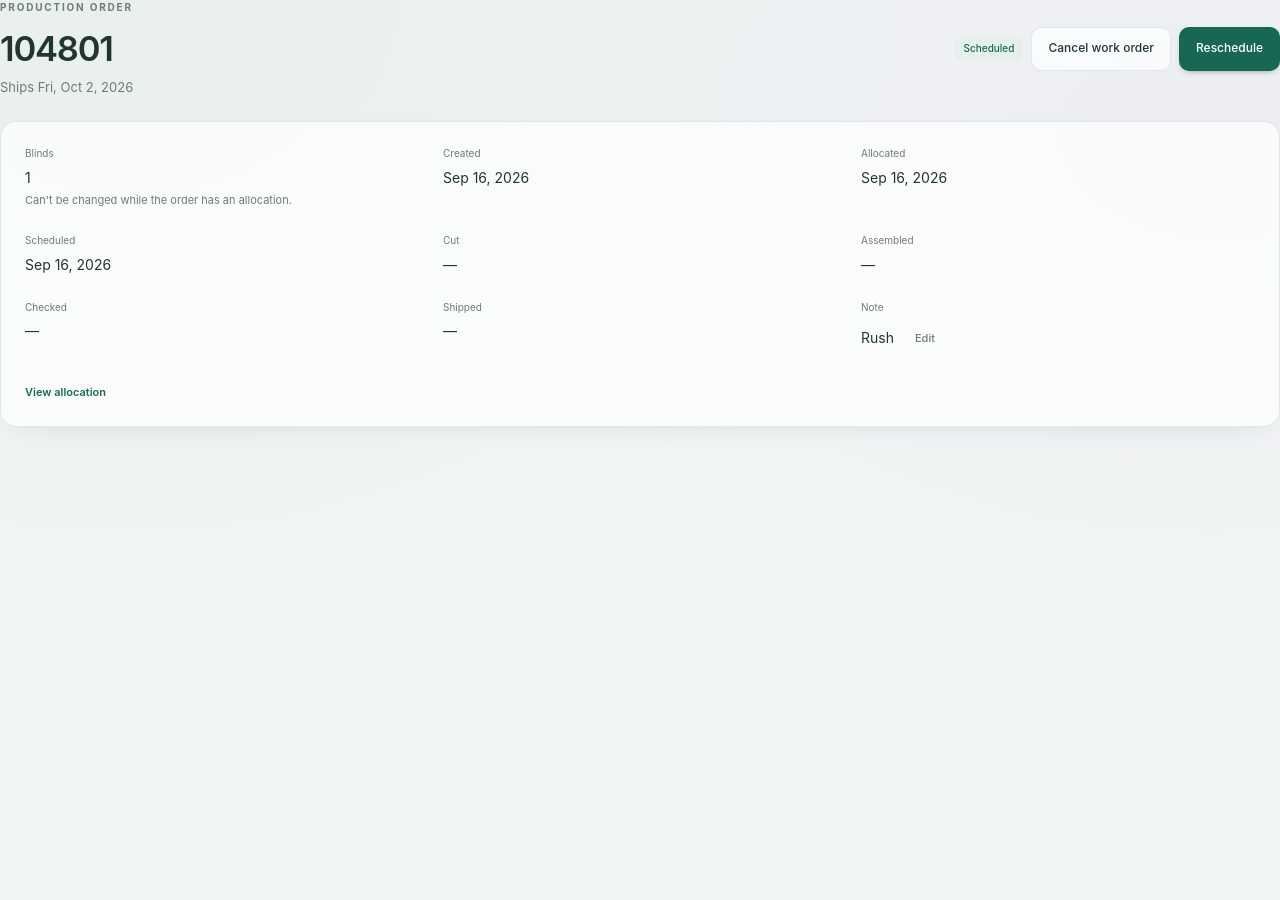
edits the note and unschedules an order with the revision it shows
Expected: the heading "104801" is shown, 0,28 -> 113,68
Expected: the text "Ships Fri, Oct 2, 2026" is shown, 0,77 -> 133,97
Click the button with aria-label "Edit note": x=925, y=338 902,320 -> 948,356
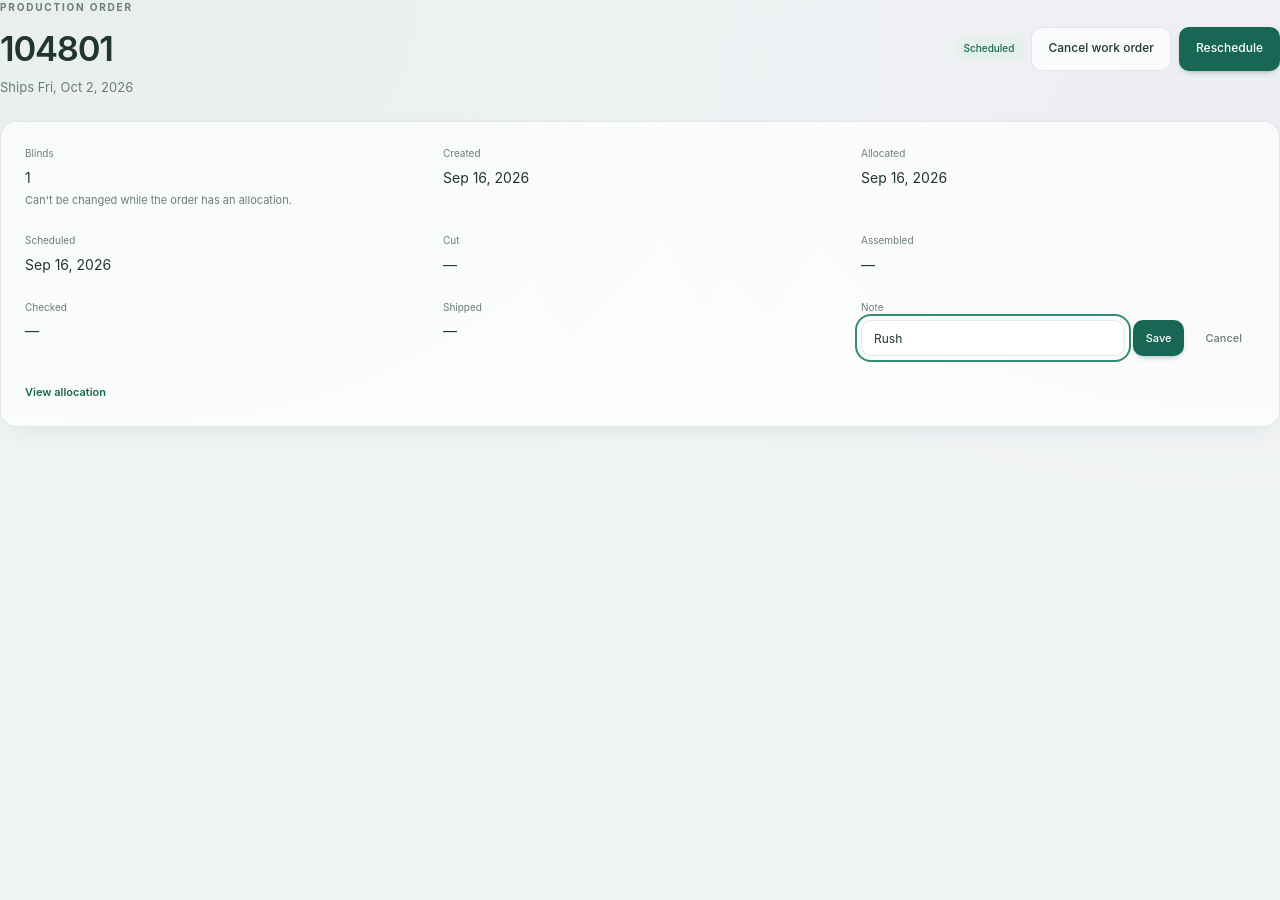
Clear the field labelled "Note": x=993, y=338 861,320 -> 1125,356
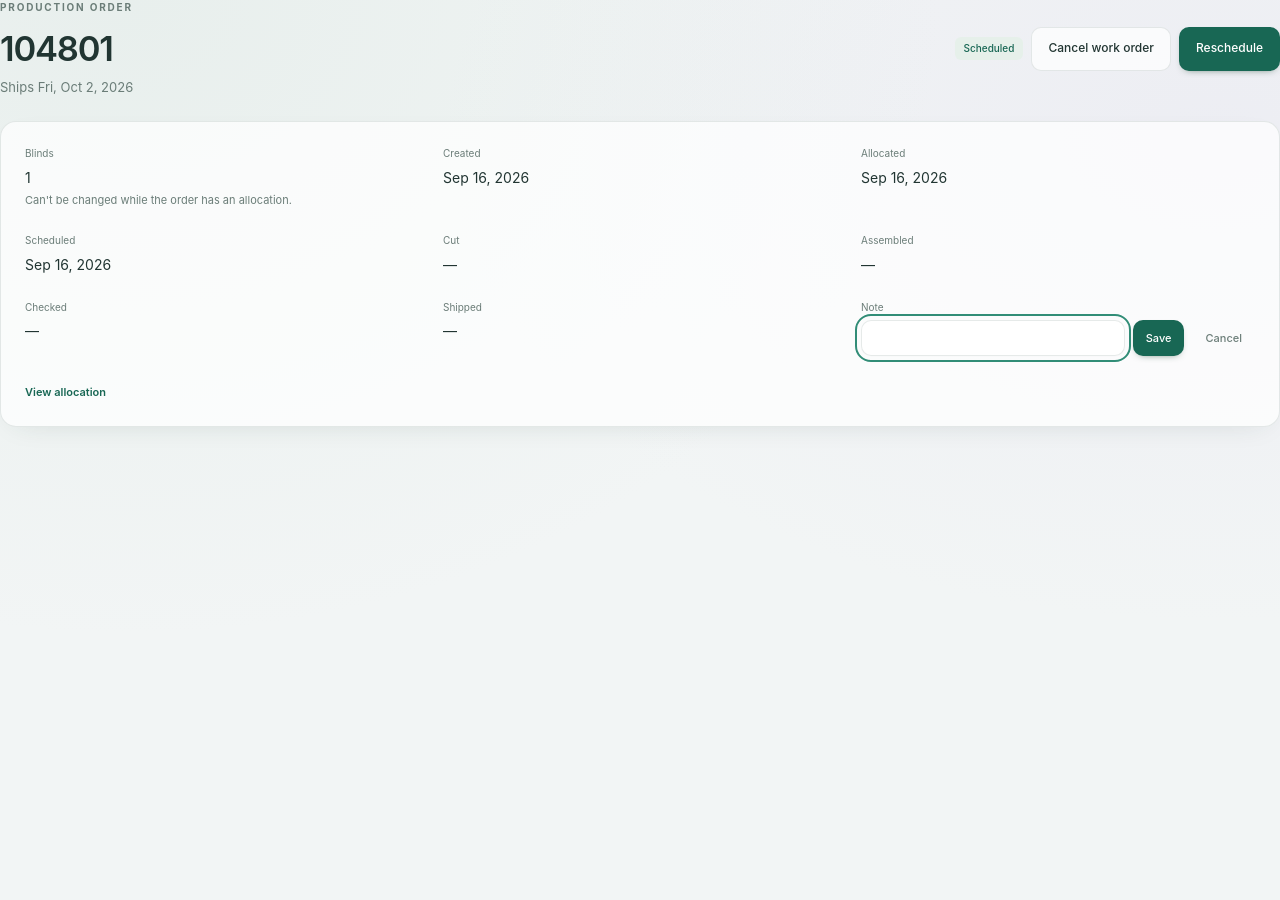
Click the button "Save": x=1159, y=338 1133,320 -> 1184,356
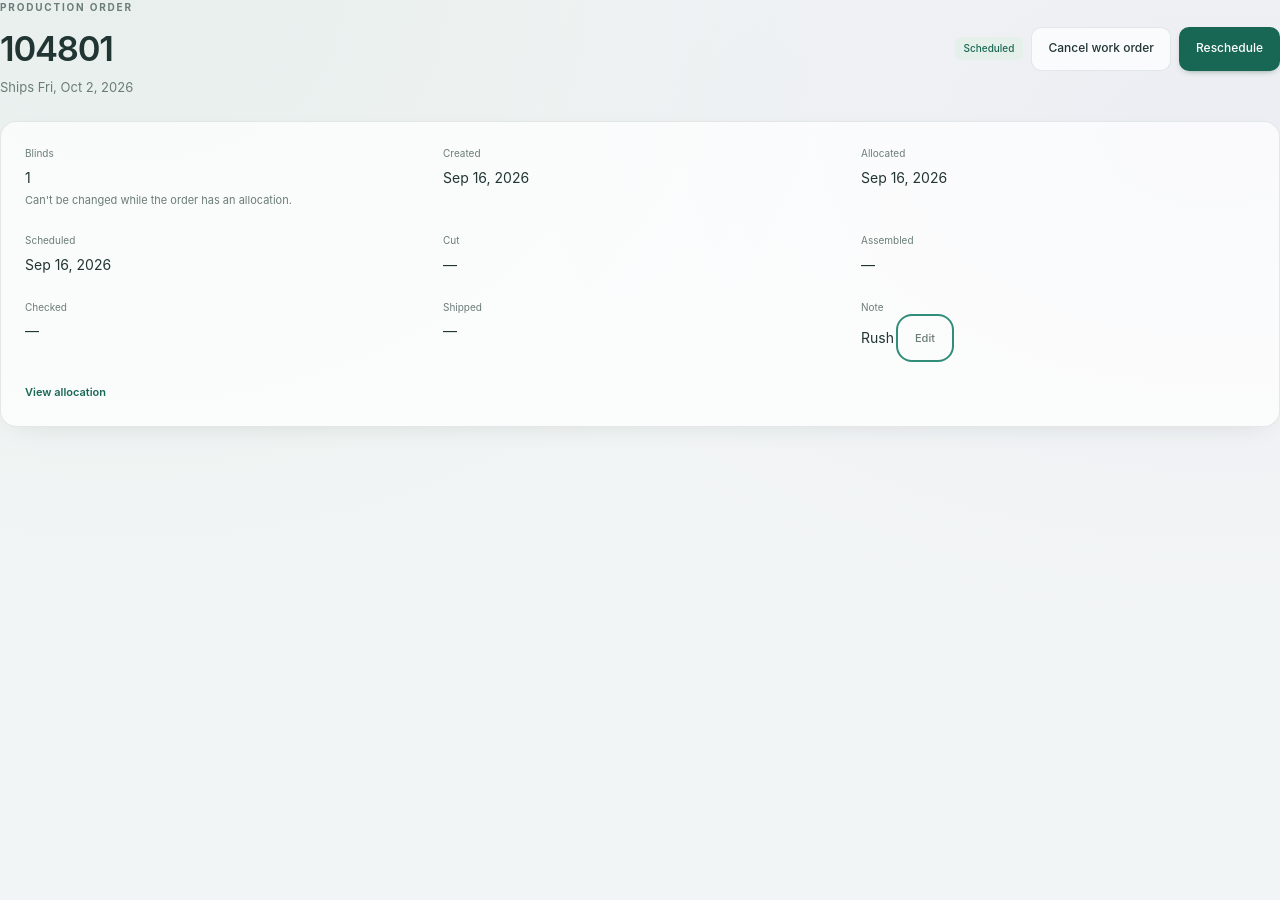
# An allocated order can be taken off the schedule without touching the rest.
Click the button "Reschedule": x=1230, y=48 1179,26 -> 1279,70
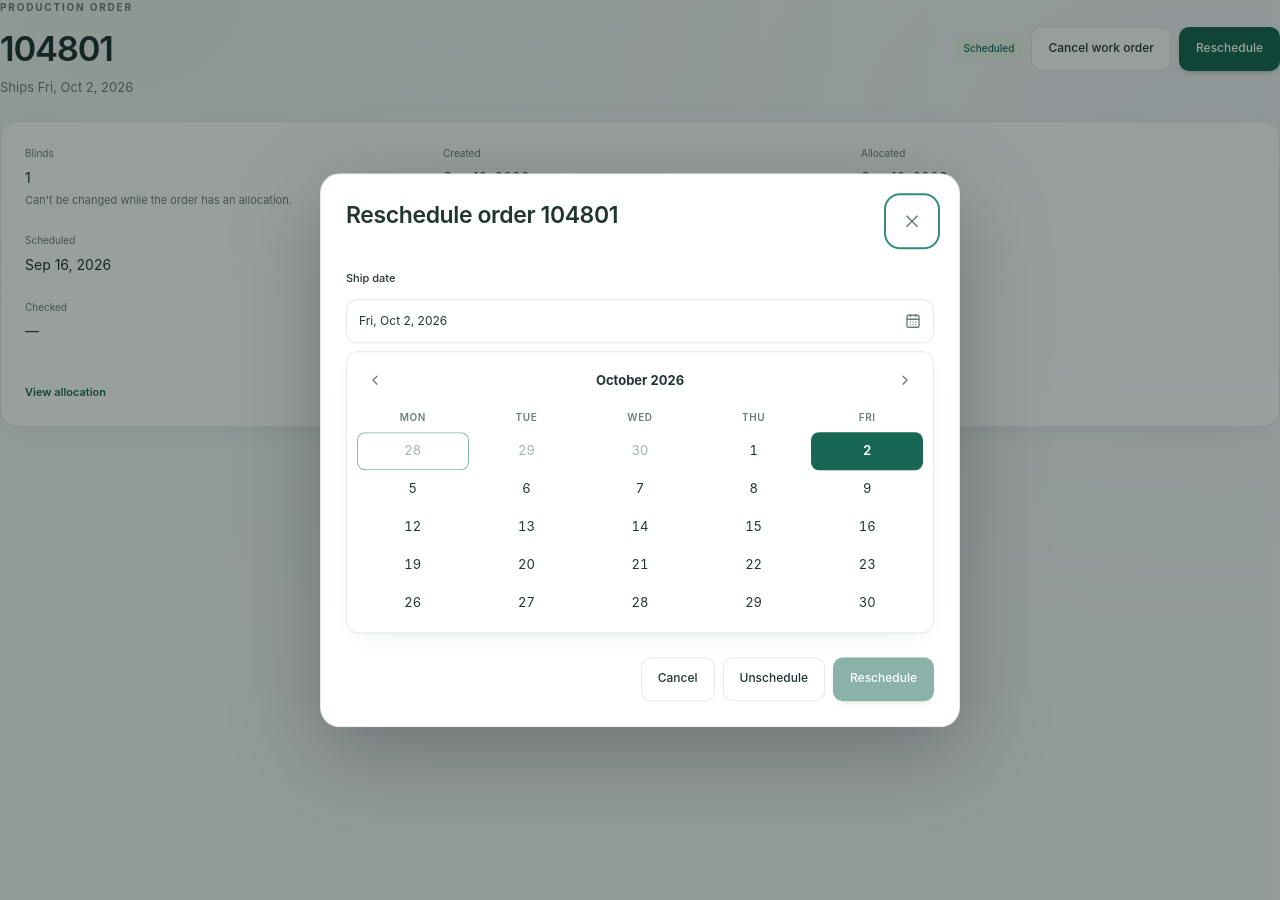
Click the button "Unschedule": x=774, y=679 722,657 -> 825,701
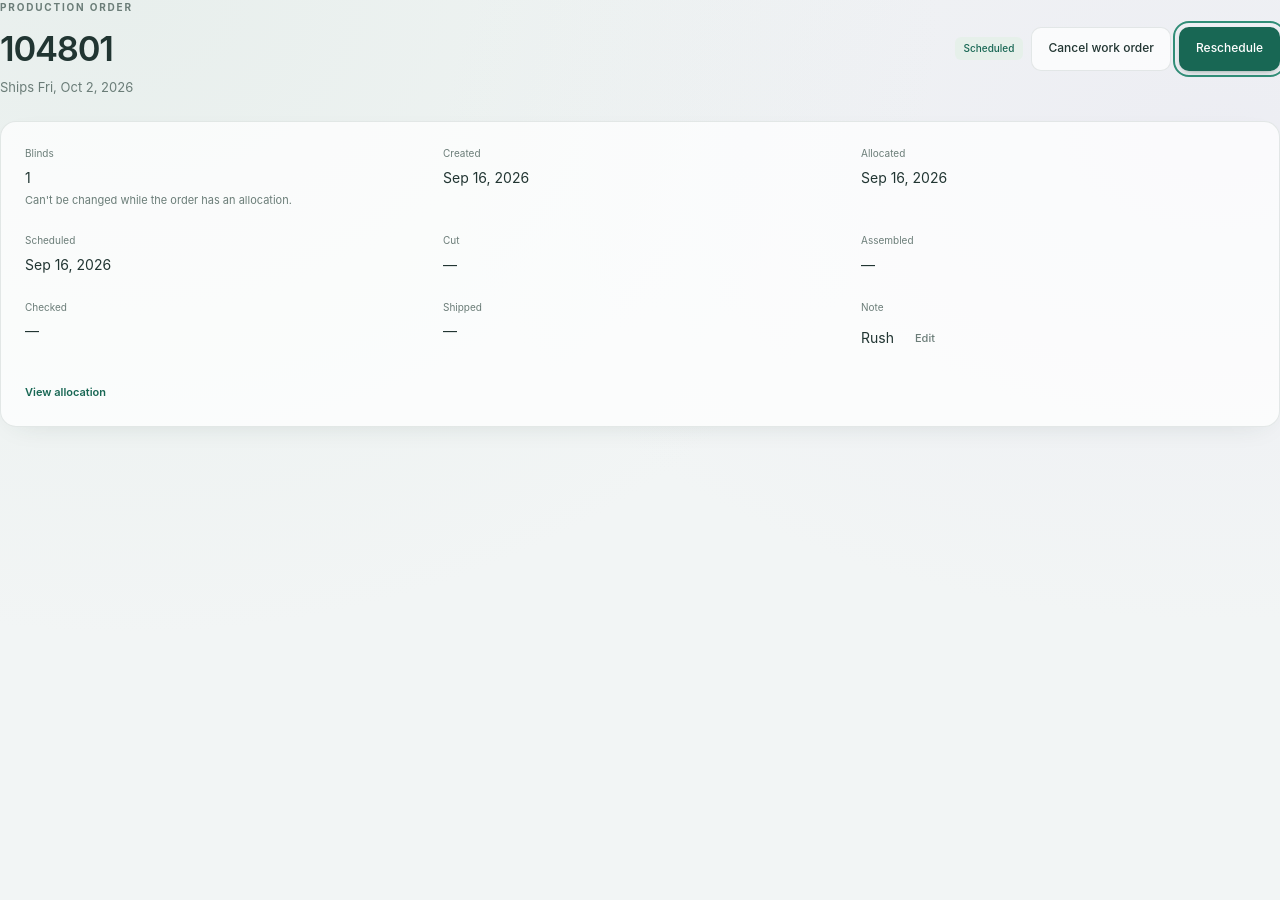
Expected: the button "Cancel work order" is shown, 1031,26 -> 1171,70
Result: the dialog is gone
